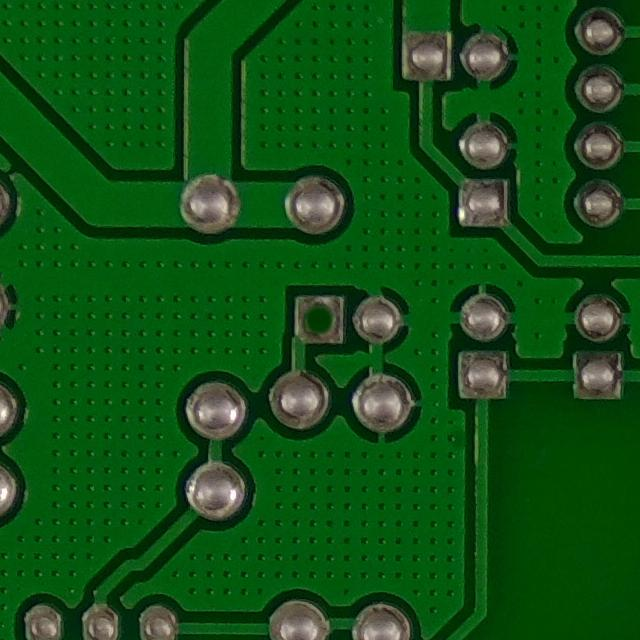missing_hole: (295, 297, 346, 344)
